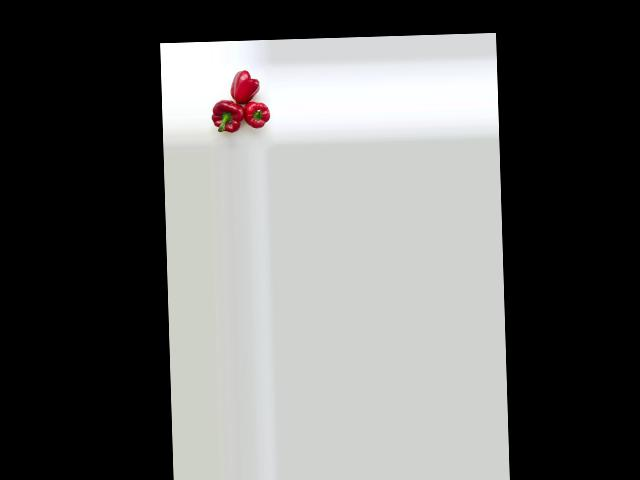bell_pepper: (227, 65, 265, 105)
